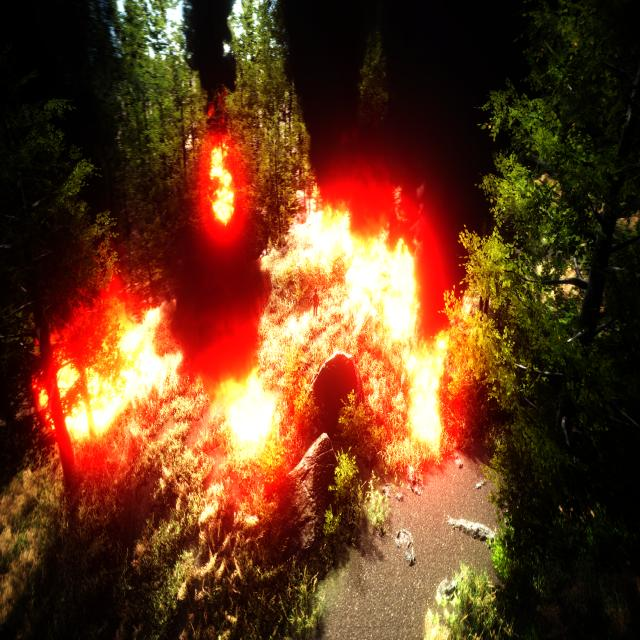Human: (311, 286, 321, 325)
